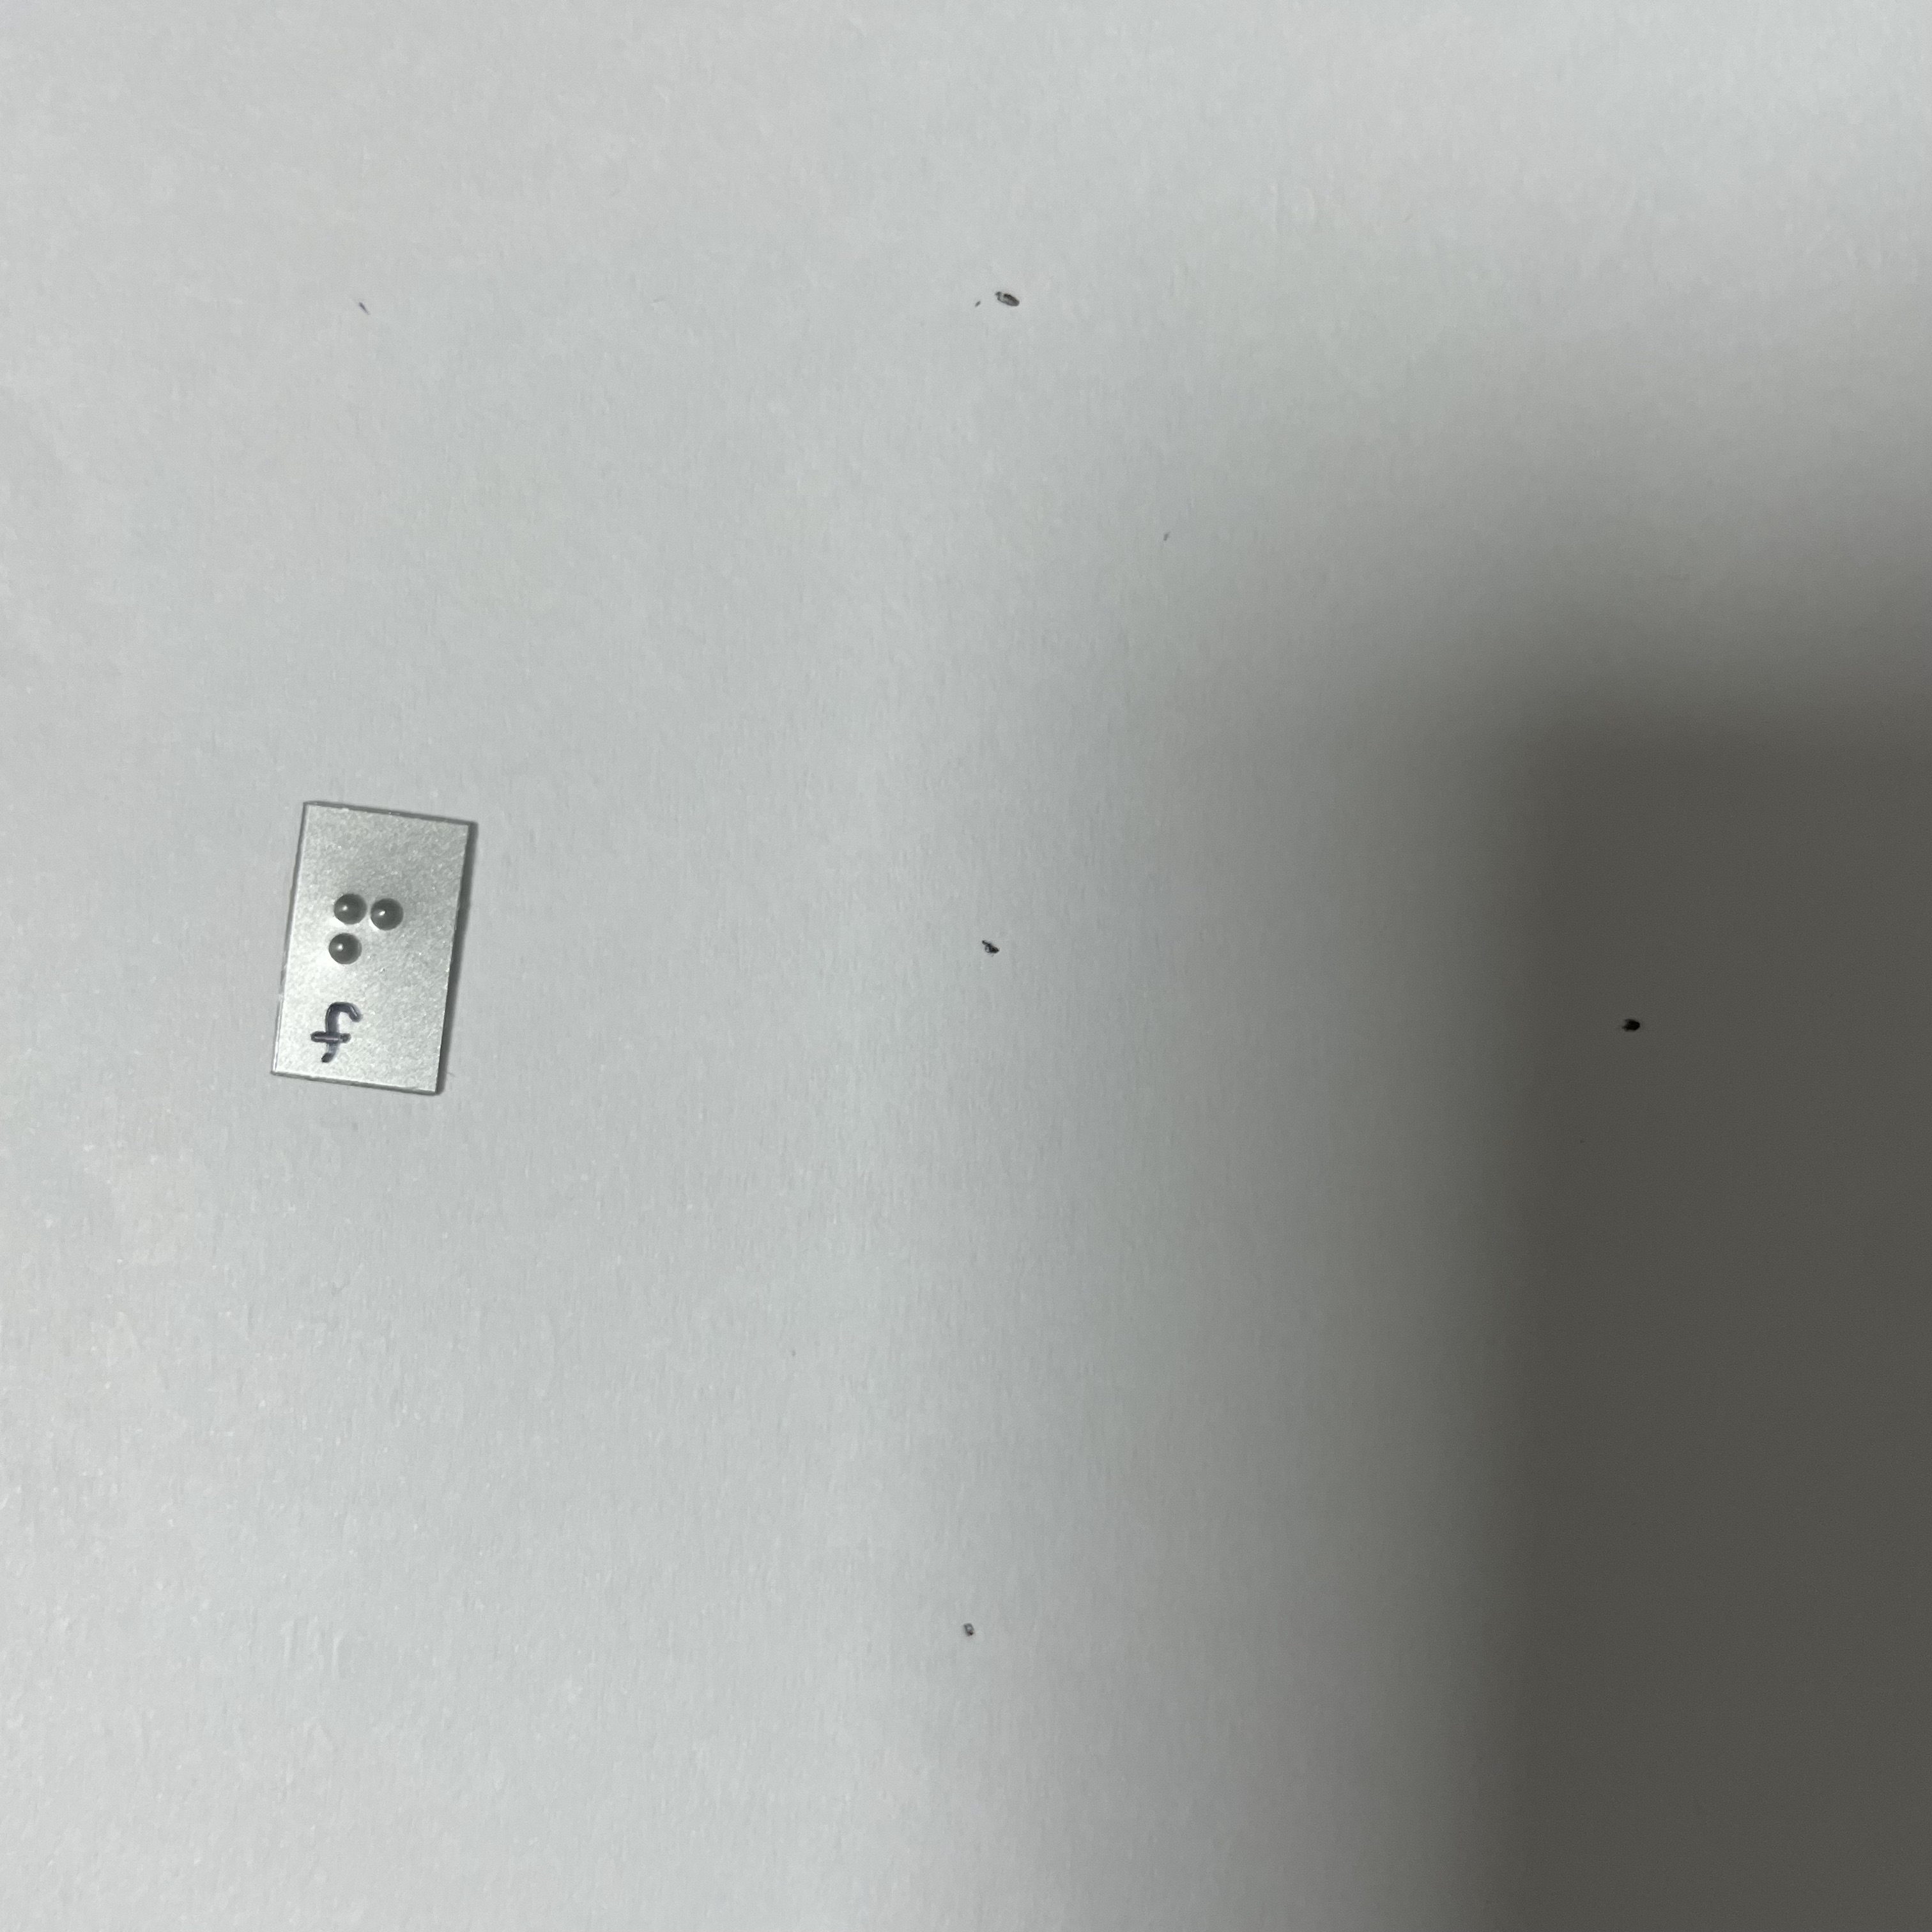f: (318, 866, 417, 1008)
